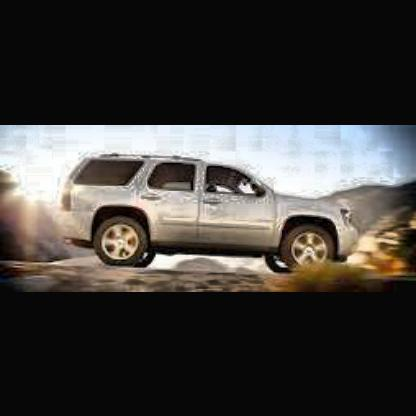Chevrolet Tahoe Hybrid SUV 2012: (57, 152, 366, 278)
